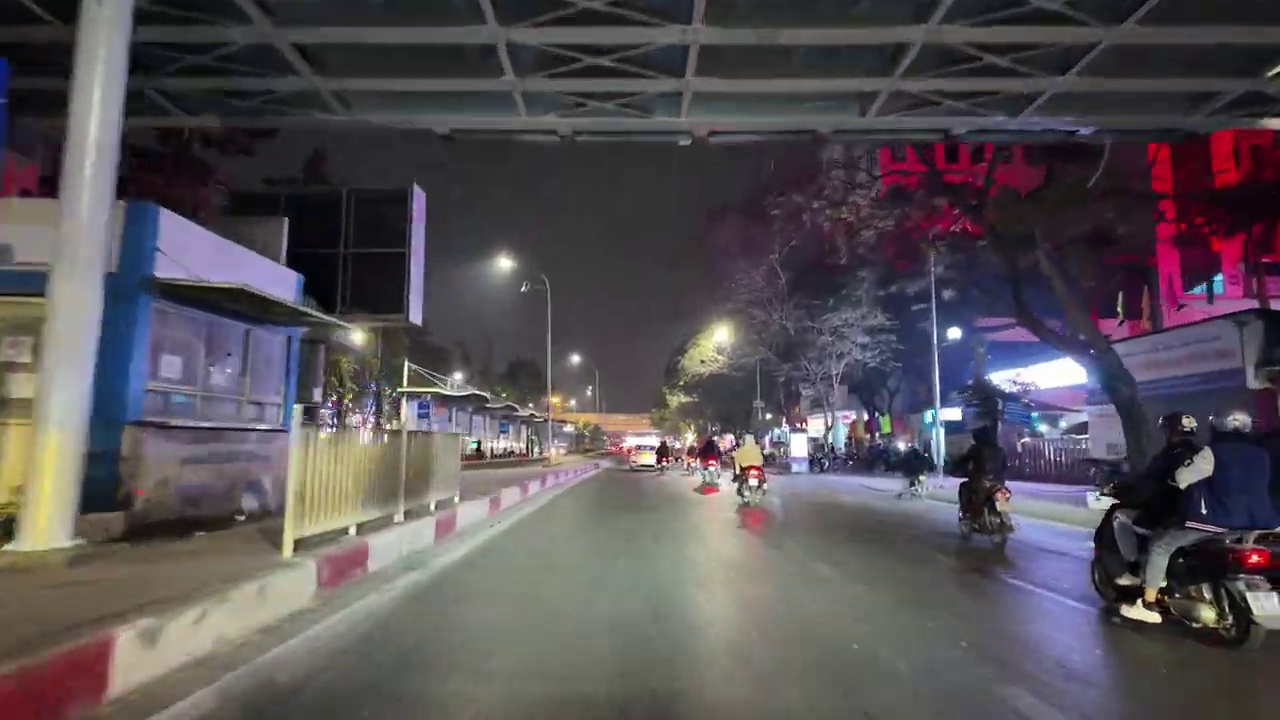acesa: (691, 321, 734, 361), (489, 251, 518, 278), (563, 348, 586, 371), (349, 326, 371, 349)
